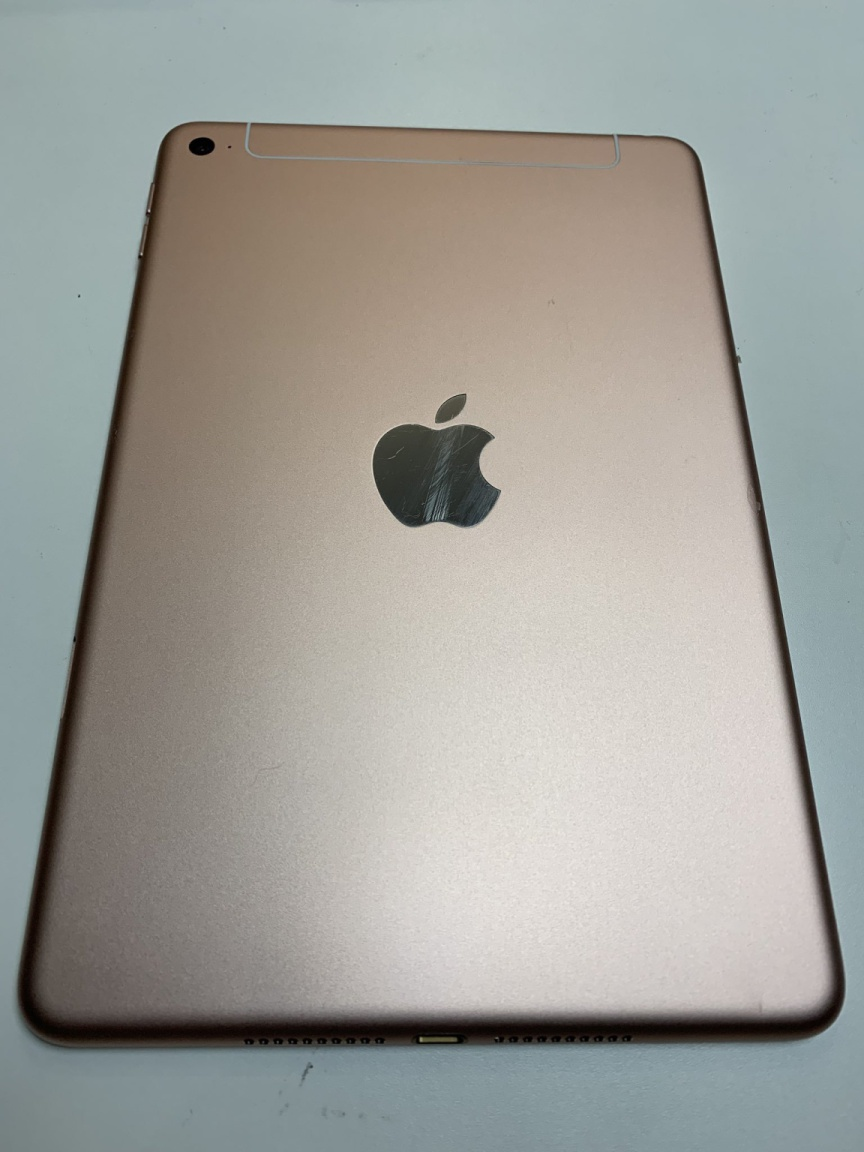apple: (347, 348, 526, 563)
